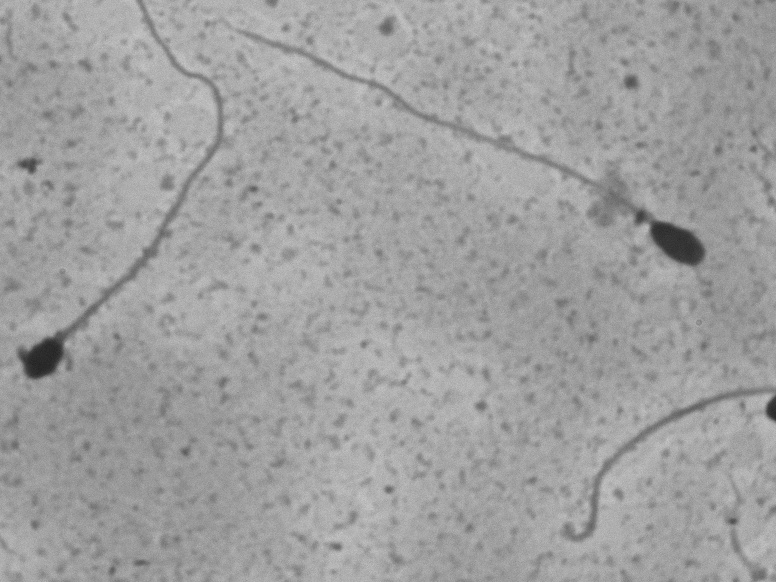Normal: (249, 21, 717, 281), (12, 3, 238, 398)
